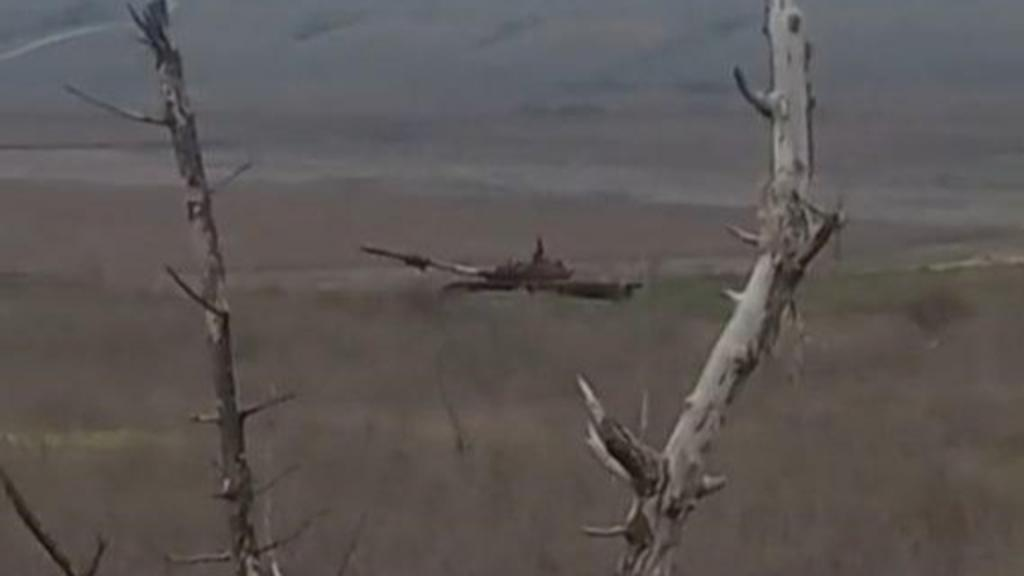TANK: (348, 242, 636, 314)
